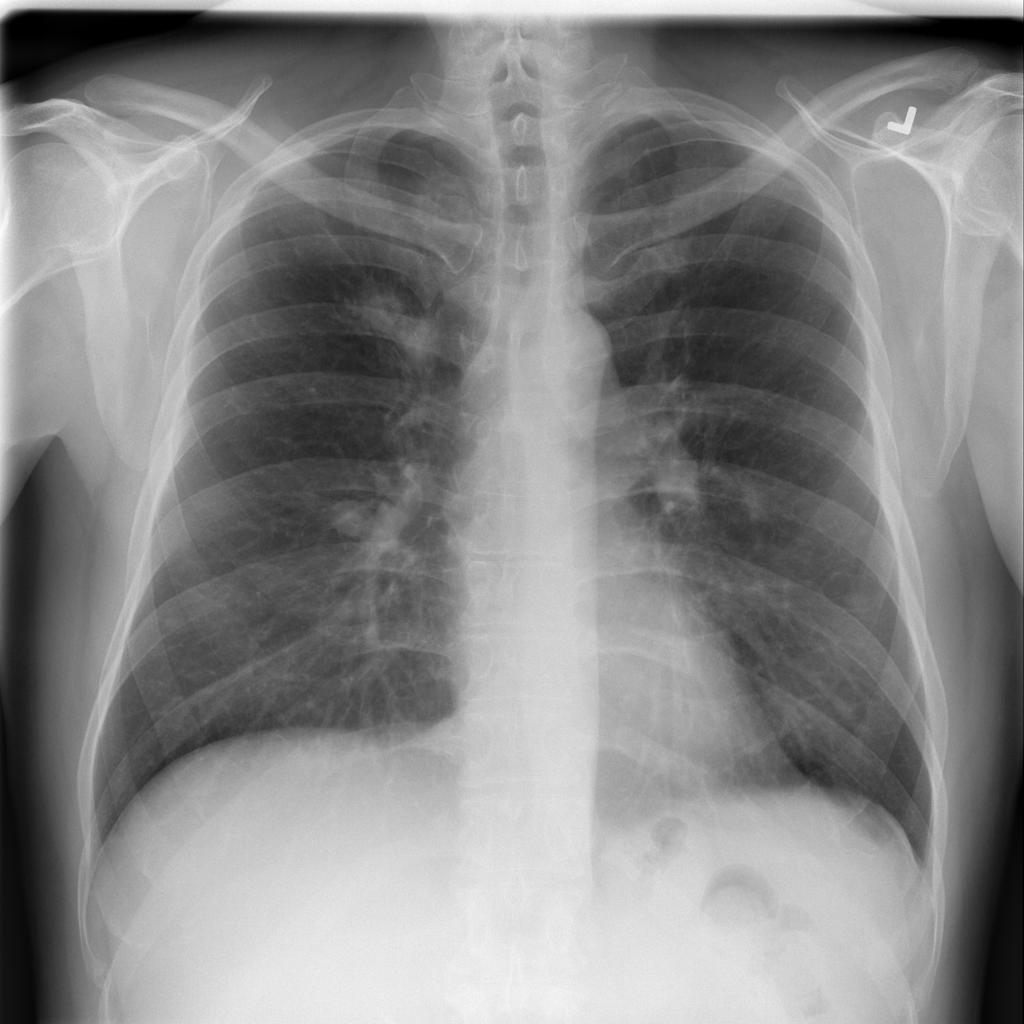nodule: (341, 273, 424, 349), (316, 485, 391, 552)
